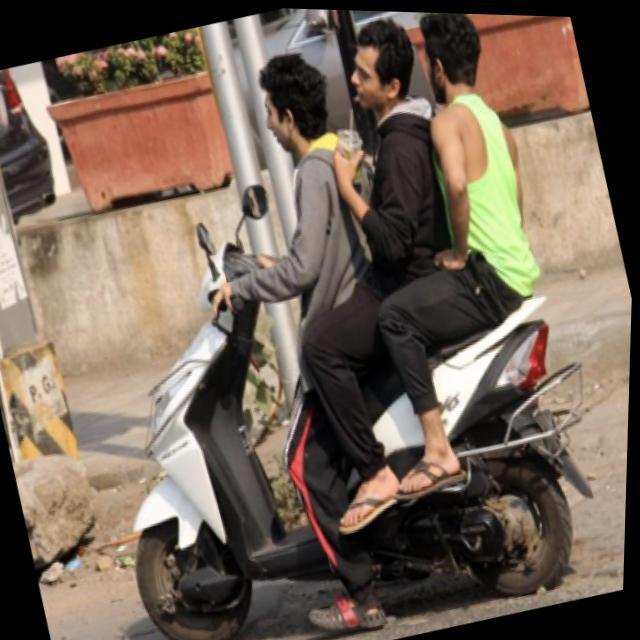Nonhelmet: (259, 44, 335, 160), (415, 3, 489, 113), (344, 13, 414, 128)
